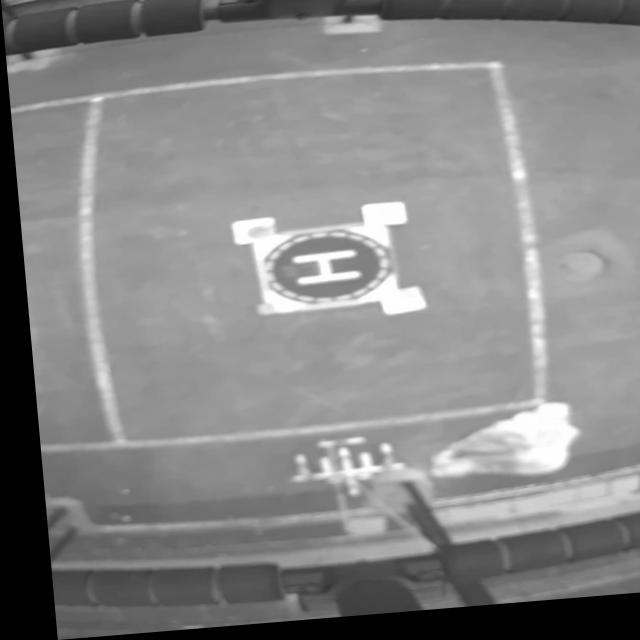Helipad: (284, 255, 359, 291)
